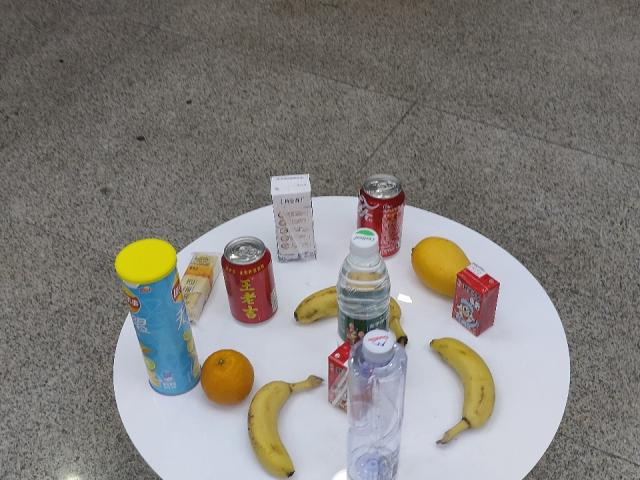Canned_drinks: (222, 239, 276, 323), (363, 179, 406, 249)
bottle: (356, 339, 400, 478), (340, 234, 386, 332)
cylinder: (118, 246, 200, 395)
drink_box: (272, 176, 314, 257), (458, 266, 496, 329), (328, 348, 349, 414)
